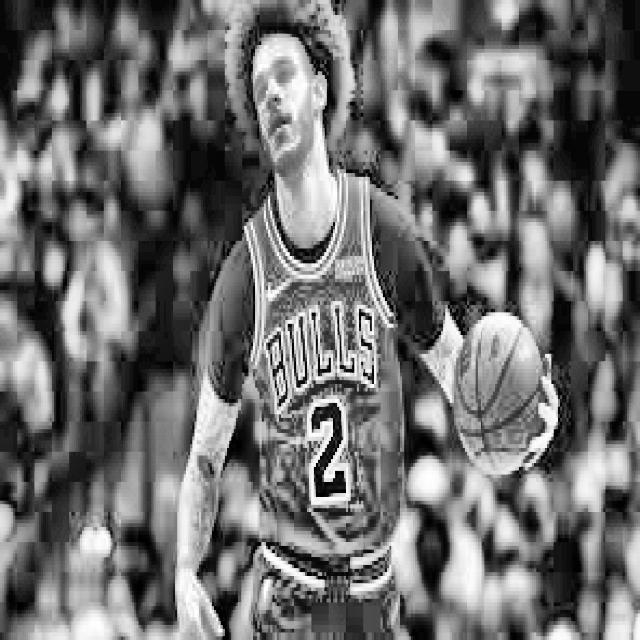Basketball: (454, 312, 545, 474)
